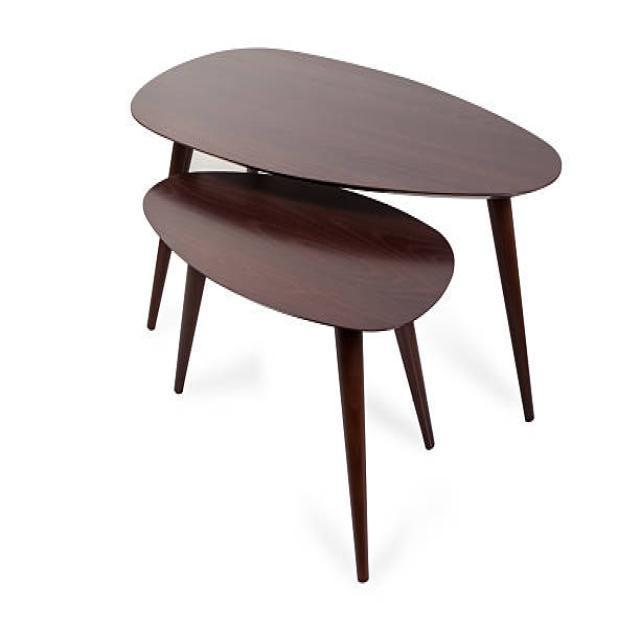table: (129, 44, 562, 427)
